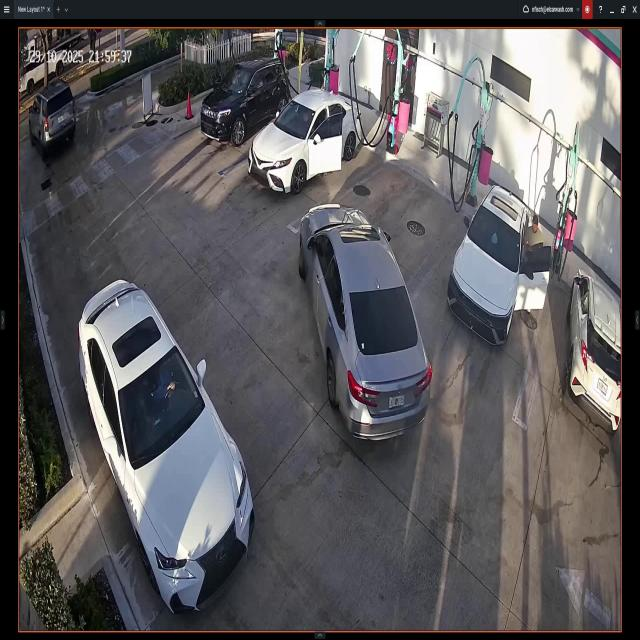Car: (80, 276, 256, 612), (300, 202, 432, 444), (448, 189, 536, 346), (249, 88, 360, 193), (568, 269, 621, 433), (201, 57, 290, 143), (30, 83, 77, 155)
